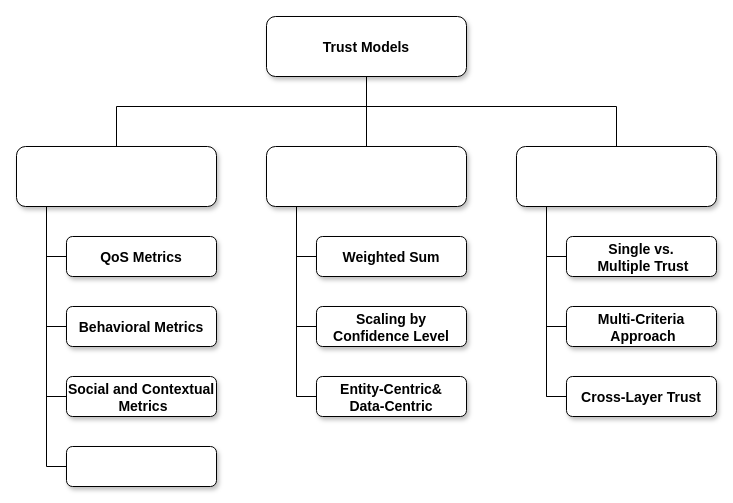
The diagram is 733 pixels wide and 503 high, and some of its shapes have lost their labels. Each missing label, with the centre of its shape:
Evidence Sources: point (142, 468)
Trust Evaluation Mechanisms: point (617, 178)
Trust Evaluation Methods: point (367, 178)
Trust Sources and Metrics: point (117, 178)
